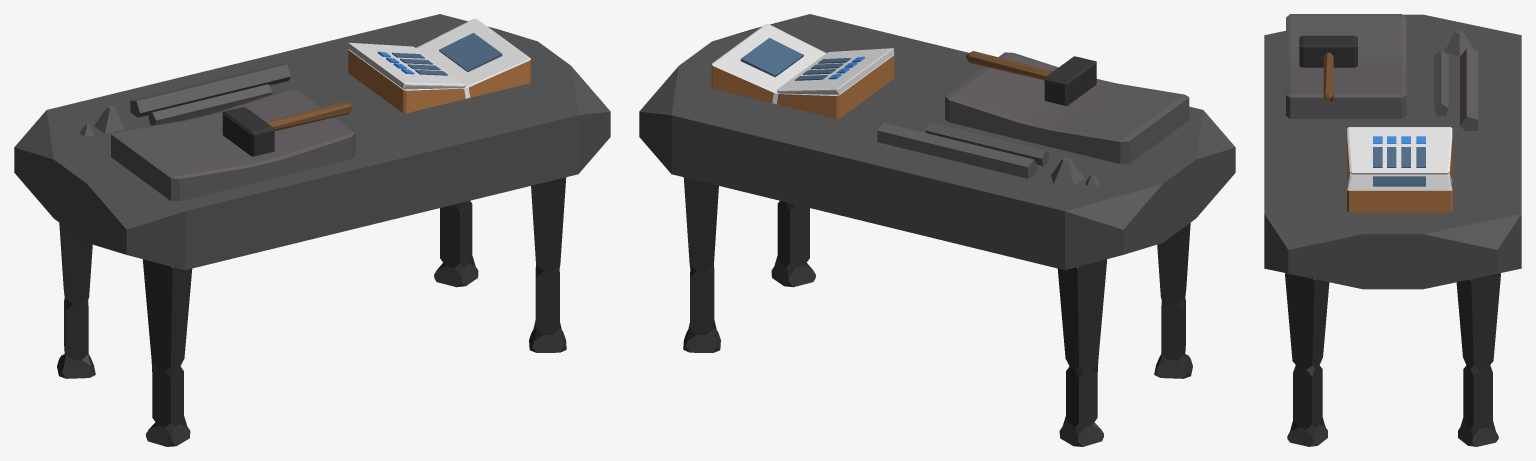
The model's file is FletchingTale.fbx.
The picture shows the model from 3 angles, left to right: view 1: azimuth 30°, elevation 25°; view 2: azimuth 150°, elevation 25°; view 3: azimuth 270°, elevation 25°; orthographic projection. The views are drawn at different scales.
Visible parts, largest first — view 1: FletchingTable, Plate, Book, Iron, Hammer, Tip; view 2: FletchingTable, Plate, Book, Iron, Hammer, Tip; view 3: FletchingTable, Plate, Book, Iron, Hammer, Tip.
Part boxes in pixels (bbox=[...]): FletchingTable: bbox=[14, 14, 610, 446]; Plate: bbox=[111, 89, 355, 201]; Book: bbox=[348, 18, 530, 113]; Iron: bbox=[130, 63, 290, 125]; Hammer: bbox=[222, 101, 353, 156]; Tip: bbox=[80, 105, 126, 136]; FletchingTable: bbox=[639, 14, 1235, 446]; Plate: bbox=[945, 52, 1189, 164]; Book: bbox=[711, 24, 894, 118]; Iron: bbox=[877, 122, 1049, 178]; Hammer: bbox=[966, 51, 1096, 105]; Tip: bbox=[1051, 157, 1100, 187]; FletchingTable: bbox=[1264, 14, 1521, 446]; Plate: bbox=[1286, 14, 1406, 118]; Book: bbox=[1347, 127, 1452, 212]; Iron: bbox=[1434, 48, 1477, 130]; Hammer: bbox=[1299, 35, 1357, 100]; Tip: bbox=[1444, 29, 1474, 56].
Size of the model in its own units: 404 by 229 by 200.
